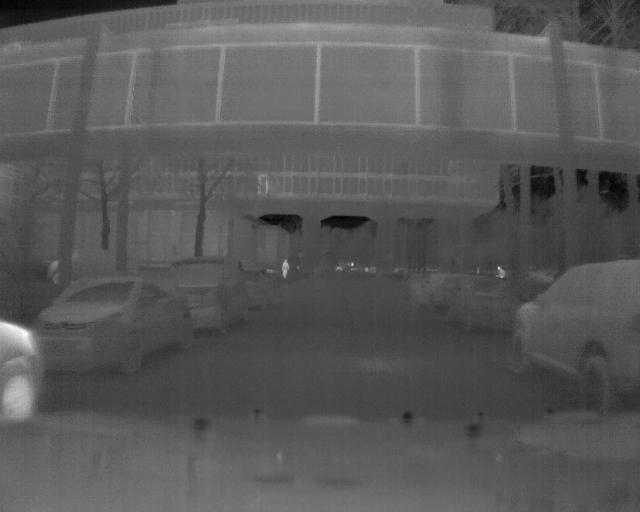car: (508, 257, 640, 415), (32, 270, 195, 373), (158, 255, 251, 334), (446, 275, 521, 334)
person: (279, 257, 290, 284), (494, 263, 507, 280)
